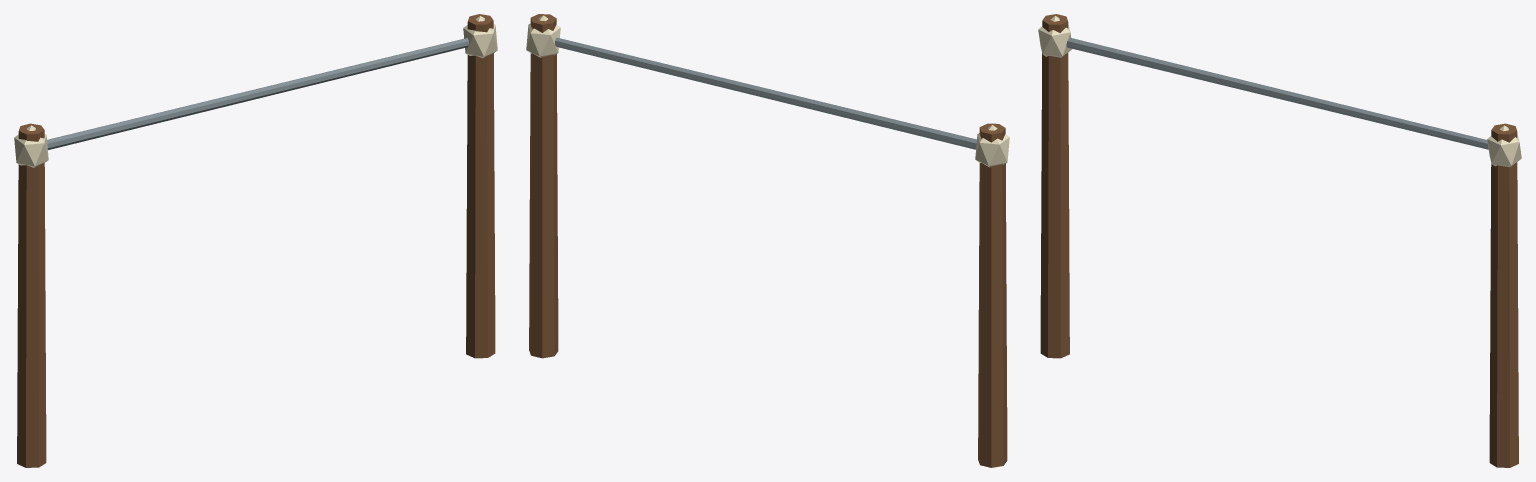
File: CC_PowerWire.fbx
3 views of the same model, side by side, from view 1: azimuth 30°, elevation 25°; view 2: azimuth 150°, elevation 25°; view 3: azimuth 330°, elevation 25° (orthographic).
Visible parts, largest first — view 1: Wire pole.001, Wire pole, Wire, Insulator, Insulator.001; view 2: Wire pole, Wire pole.001, Wire, Insulator, Insulator.001; view 3: Wire pole, Wire pole.001, Wire, Insulator.001, Insulator.
Boxes of the visible parts, box(x1,y1,x2,y2) form: Wire pole.001: box(466, 14, 495, 358); Wire pole: box(17, 123, 46, 467); Wire: box(47, 38, 468, 149); Insulator: box(14, 125, 48, 167); Insulator.001: box(463, 16, 497, 58); Wire pole: box(978, 123, 1007, 467); Wire pole.001: box(529, 14, 558, 358); Wire: box(555, 37, 976, 149); Insulator: box(975, 125, 1009, 167); Insulator.001: box(526, 15, 560, 57); Wire pole: box(1040, 14, 1069, 358); Wire pole.001: box(1489, 123, 1518, 467); Wire: box(1066, 38, 1488, 149); Insulator.001: box(1487, 125, 1521, 167); Insulator: box(1038, 16, 1071, 57).
Bounding box in the file's own units: 2.56 × 1.72 × 0.1531.
